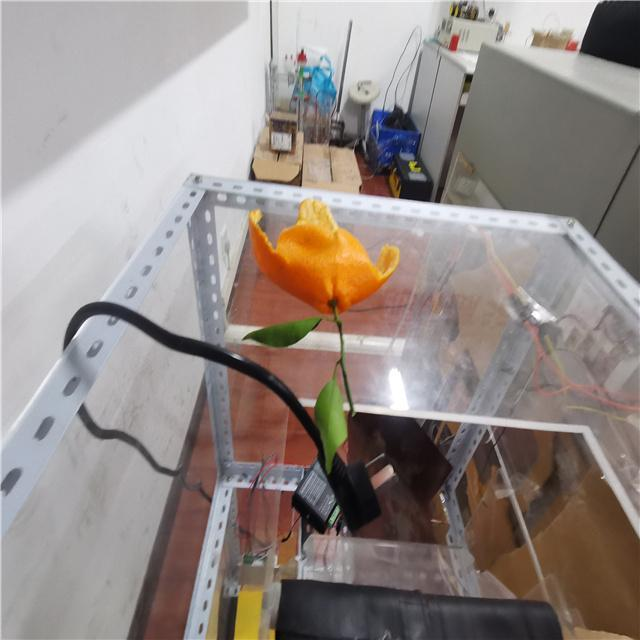orange-peel: (246, 196, 400, 316)
